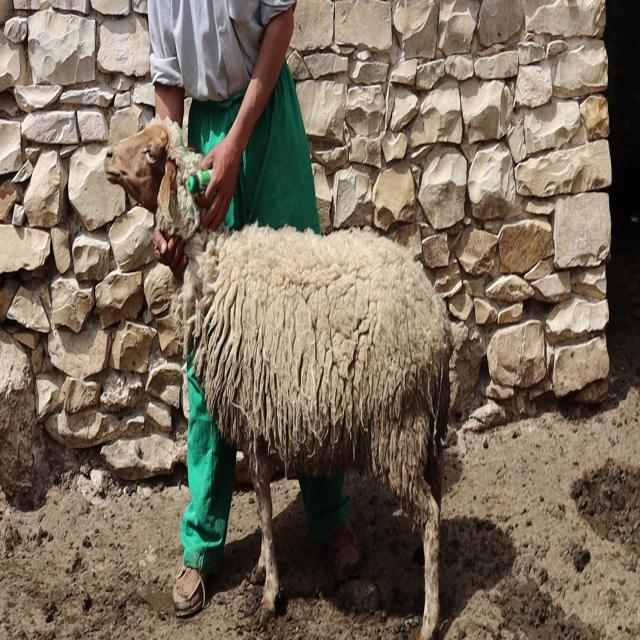Score_3: (105, 119, 453, 639)
